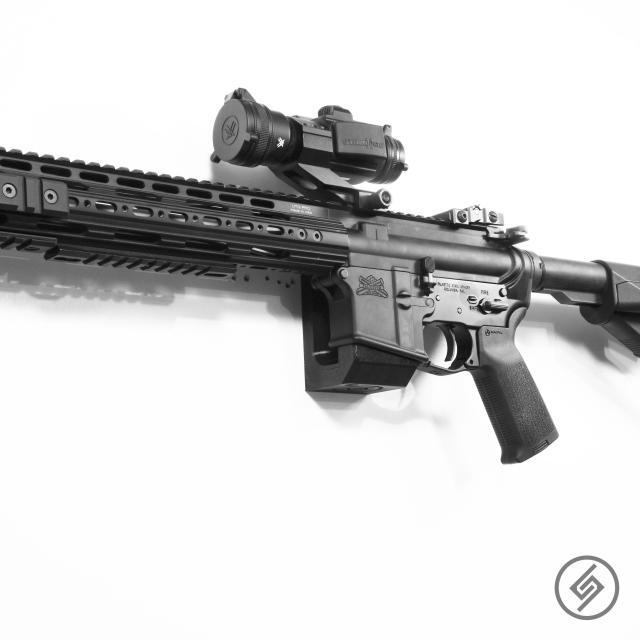Rifle: (0, 88, 640, 467)
